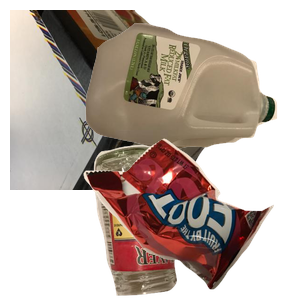cardboard: (10, 10, 238, 190)
glass: (91, 142, 260, 300)
plastic: (83, 21, 300, 162)
trash: (81, 136, 300, 300)
